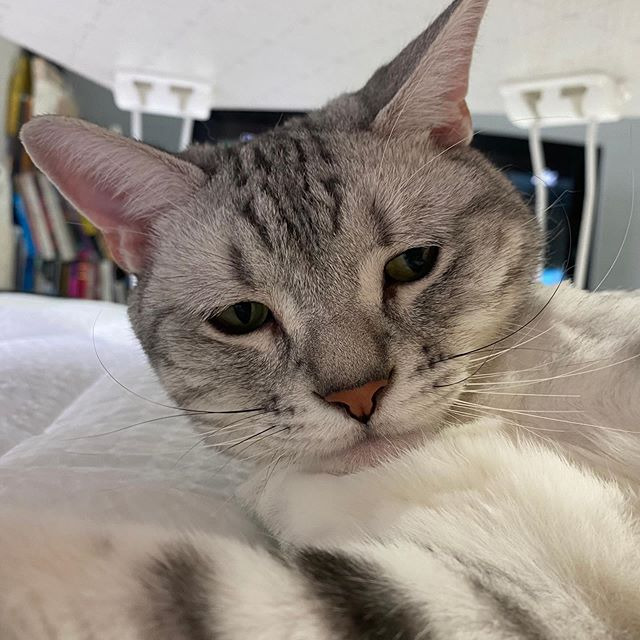cat: (17, 1, 544, 503)
